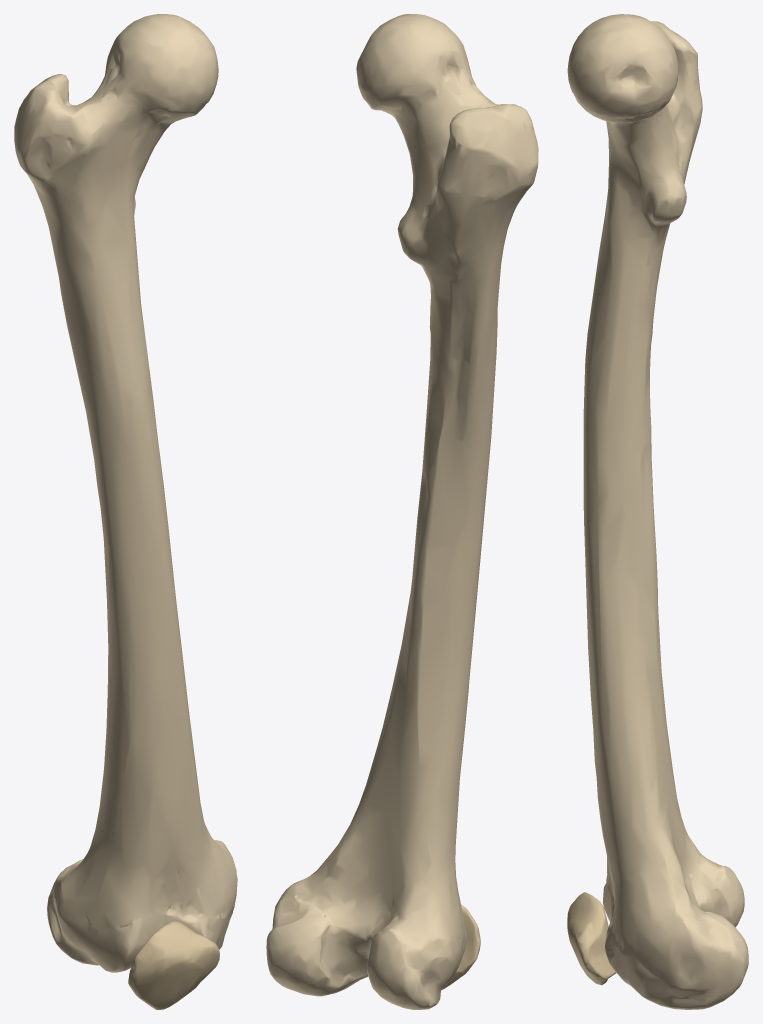
File: r-femur.glb
3 renders of one model, left to right at view 1: azimuth 30°, elevation 25°; view 2: azimuth 150°, elevation 25°; view 3: azimuth 270°, elevation 25°, orthographic.
Parts seen in each view (by area): view 1: right-femur, right-patella; view 2: right-femur, right-patella; view 3: right-femur, right-patella.
Boxes of the visible parts, bbox=[...] form: right-femur: bbox=[14, 14, 237, 972]; right-patella: bbox=[128, 921, 219, 1009]; right-femur: bbox=[266, 14, 538, 1009]; right-patella: bbox=[441, 904, 480, 989]; right-femur: bbox=[567, 14, 748, 1009]; right-patella: bbox=[567, 892, 615, 985].
Size of the model in its own units: 0.2782 by 1.11 by 0.189.
